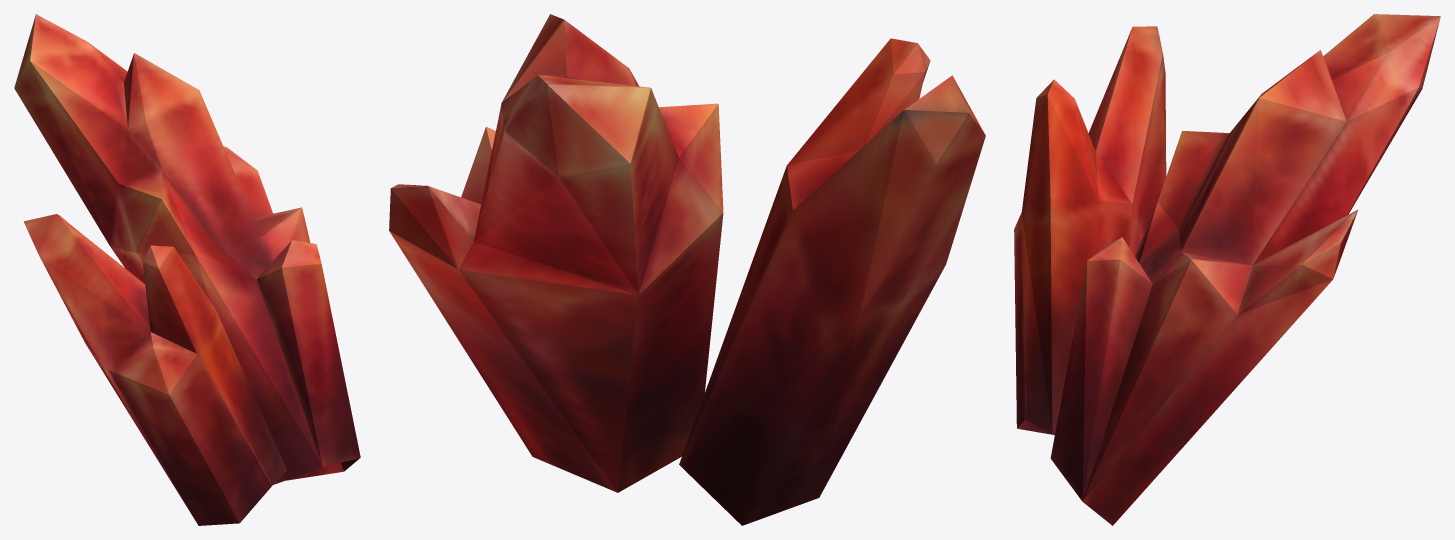
Rendered from shuijing_03.FBX.
3 views of the same model, side by side, from view 1: azimuth 30°, elevation 25°; view 2: azimuth 150°, elevation 25°; view 3: azimuth 270°, elevation 25° (orthographic). The views are drawn at different scales.
Parts seen in each view (by area): view 1: shuijing_03; view 2: shuijing_03; view 3: shuijing_03.
Part boxes in pixels (box(x1,y1,x2,y2)): shuijing_03: box(14, 14, 360, 525); shuijing_03: box(389, 14, 985, 525); shuijing_03: box(1014, 14, 1440, 525).
Bounding box in the file's own units: 1.3 × 1.61 × 1.44.
